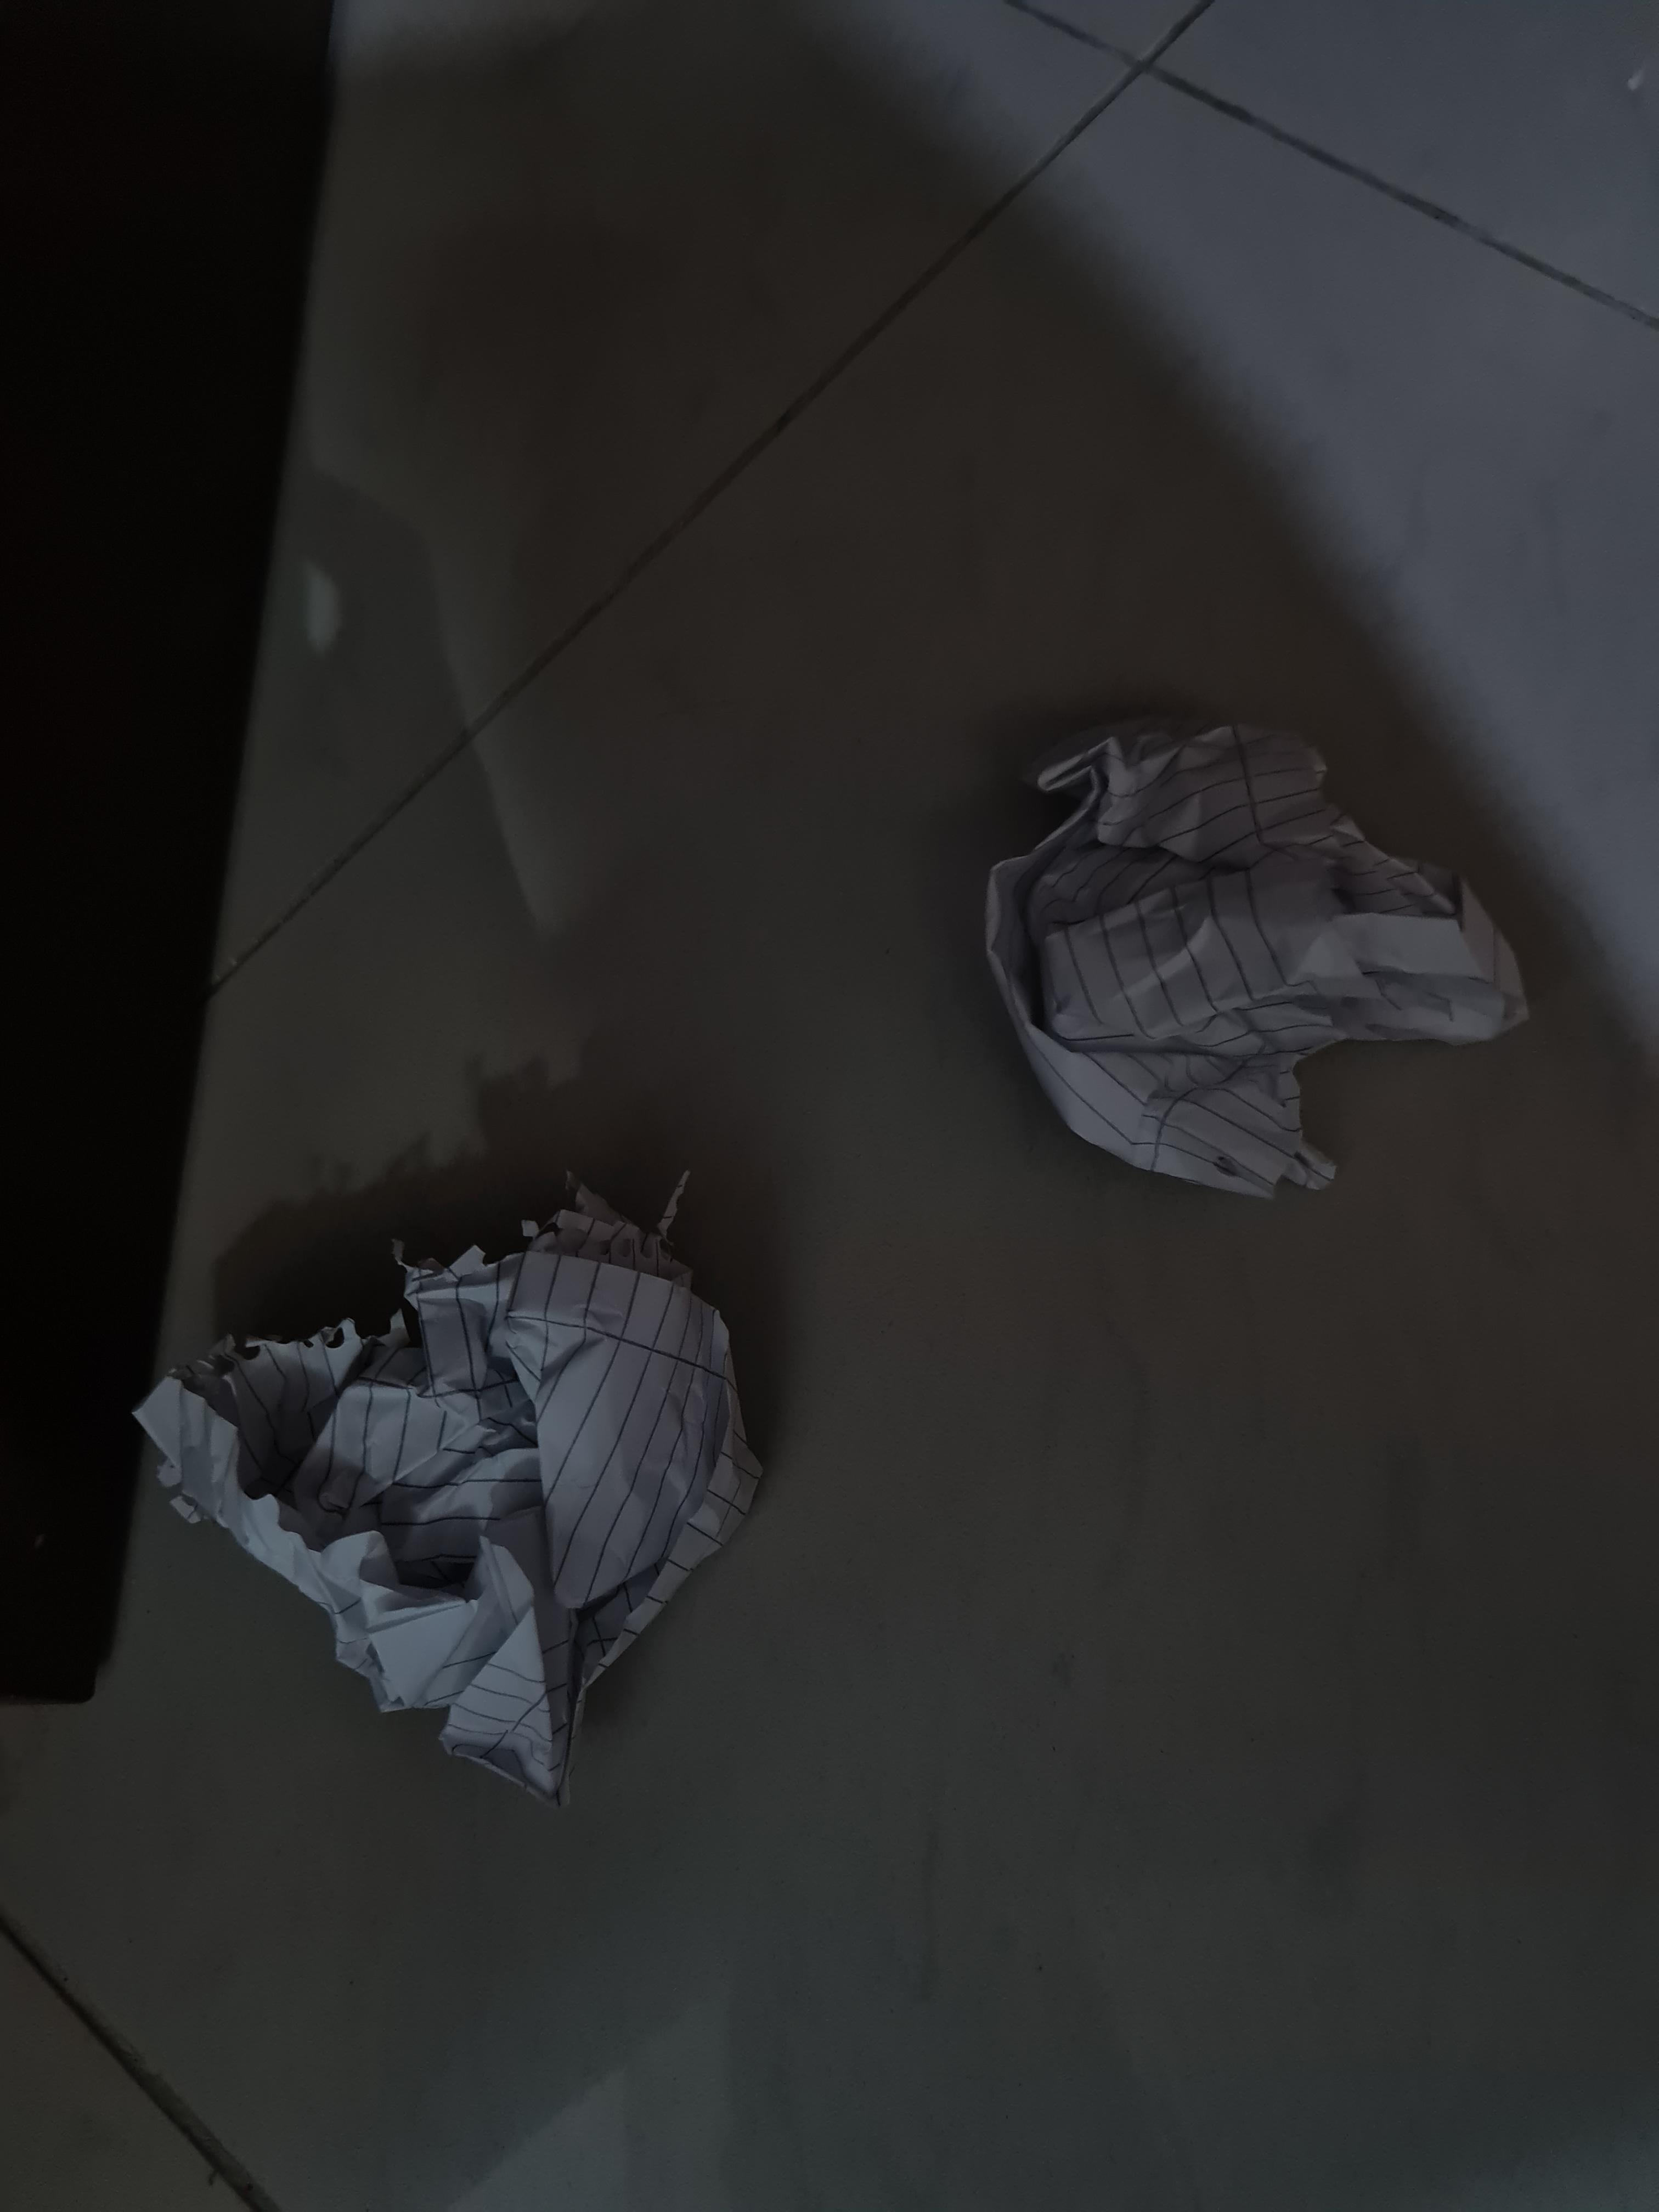Paper: (144, 1170, 776, 1774), (979, 709, 1526, 1209)
